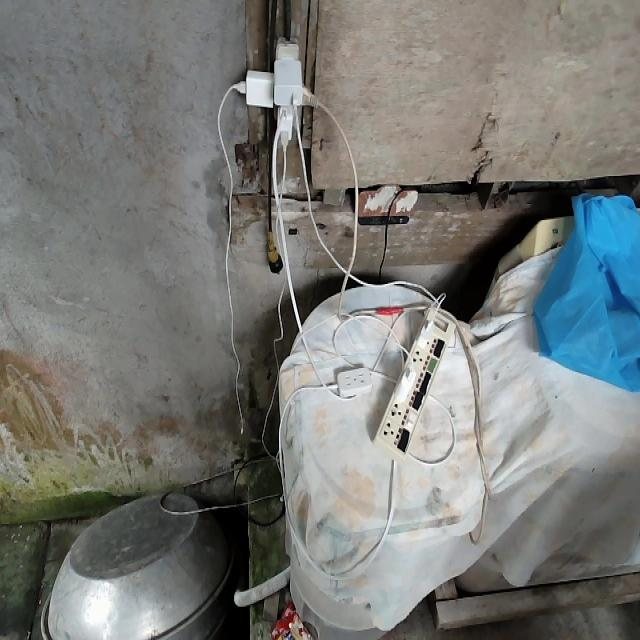-: (226, 40, 330, 151)
